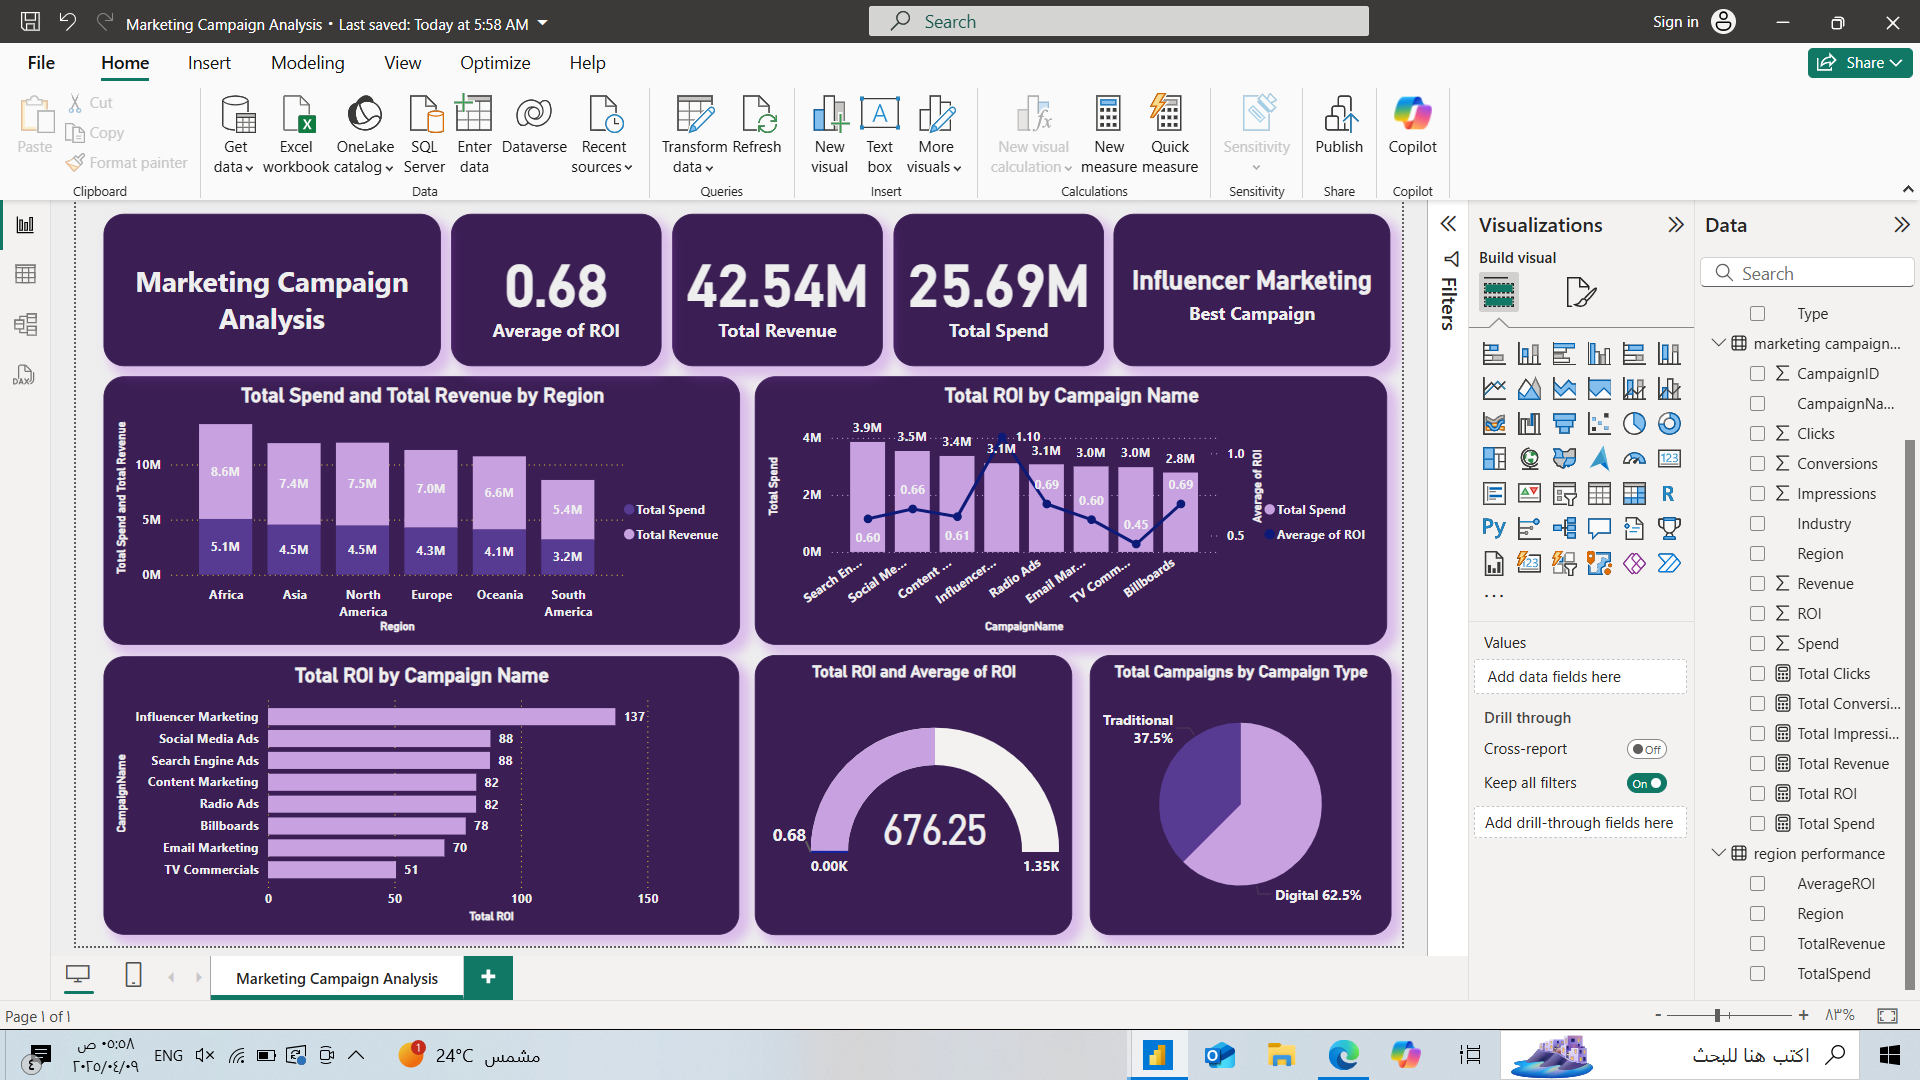

This screenshot's page, from the dashboard's own definition file:
{"tool":"powerbi","page":{"name":"Marketing Campaign Analysis","canvas":[1280,720],"ordinal":0},"visuals":[{"type":"card","fields":{"Values":["marketing campaign performance.Total Spend"]},"box":[788.6,13.7,203.1,146.8],"z":0},{"type":"columnChart","fields":{"Y":["marketing campaign performance.Total Spend","marketing campaign performance.Total Revenue"],"Category":["region performance.Region"]},"box":[26.1,170.2,614.8,259.3],"z":1000},{"type":"barChart","title":"Total ROI by Campaign Name","fields":{"Y":["marketing campaign performance.Total ROI"],"Category":["marketing campaign details.CampaignName"]},"box":[26.1,440.5,613.4,269],"z":2000},{"type":"card","fields":{"Values":["marketing campaign details.Best Campaign"]},"box":[1001.7,13.7,267.6,146.8],"z":3000},{"type":"lineClusteredColumnComboChart","title":"Total ROI by Campaign Name","fields":{"Category":["marketing campaign performance.CampaignName"],"Y":["marketing campaign performance.Total Spend"],"Y2":["Avg(marketing campaign performance.ROI)"]},"box":[654.5,170.2,610.6,259.3],"z":4000},{"type":"pieChart","title":"Total Campaigns by Campaign Type","fields":{"Y":["CountNonNull(marketing campaign details.TotalCampaigns)"],"Category":["marketing campaign details.Type"]},"box":[978.4,439.1,290.9,270.3],"z":5000},{"type":"gauge","title":"Total ROI and Average of ROI","fields":{"Y":["marketing campaign performance.Total ROI"],"TargetValue":["Avg(marketing campaign performance.ROI)"]},"box":[654.5,439.1,306,270.3],"z":6000},{"type":"card","fields":{"Values":["marketing campaign performance.Total Revenue"]},"box":[575.4,13.7,203.1,146.8],"z":7000},{"type":"card","fields":{"Values":["Avg(marketing campaign performance.ROI)"]},"box":[362.3,13.7,203.1,146.8],"z":7001},{"type":"textbox","title":"Marketing Campaign Analysis","box":[26.1,13.7,325.2,146.8],"z":7002}]}

Visuals, with their boxes on the page's 1280x720 design canvas (x1, y1, x2, y2). These are canvas units, not pixel positions in the 1920x1080 screenshot, which may show the page scaled, cropped or inside an application window:
card - marketing campaign performance.Total Spend: BBox(789, 14, 992, 160)
columnChart - marketing campaign performance.Total Spend x marketing campaign performance.Total Revenue: BBox(26, 170, 641, 430)
"Total ROI by Campaign Name" barChart: BBox(26, 440, 640, 710)
card - marketing campaign details.Best Campaign: BBox(1002, 14, 1269, 160)
"Total ROI by Campaign Name" lineClusteredColumnComboChart: BBox(654, 170, 1265, 430)
"Total Campaigns by Campaign Type" pieChart: BBox(978, 439, 1269, 709)
"Total ROI and Average of ROI" gauge: BBox(654, 439, 960, 709)
card - marketing campaign performance.Total Revenue: BBox(575, 14, 778, 160)
card - Avg(marketing campaign performance.ROI): BBox(362, 14, 565, 160)
"Marketing Campaign Analysis" textbox: BBox(26, 14, 351, 160)
